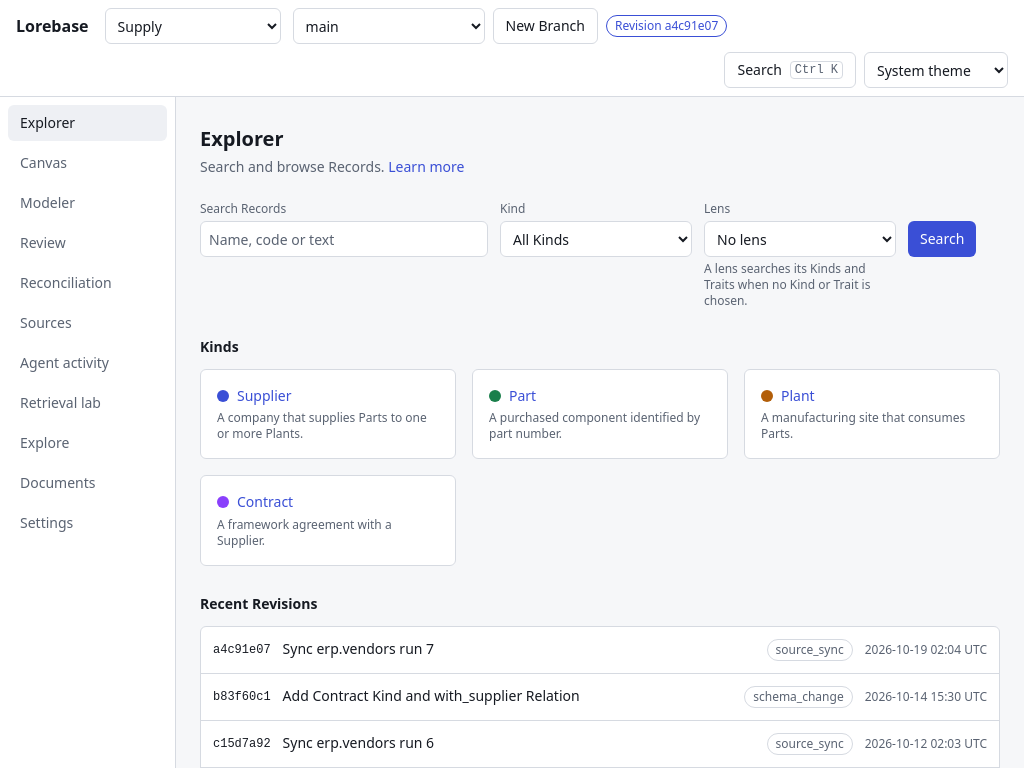
Test: app shell › shows a refused create as a toast and keeps the dialog open
Check: the dropdown named "Branch" in the row of "Revision a4c91e07" is shown, box left=292, top=8, right=484, bottom=44
Click the button "New Branch" at point(545, 26), box left=492, top=8, right=598, bottom=44
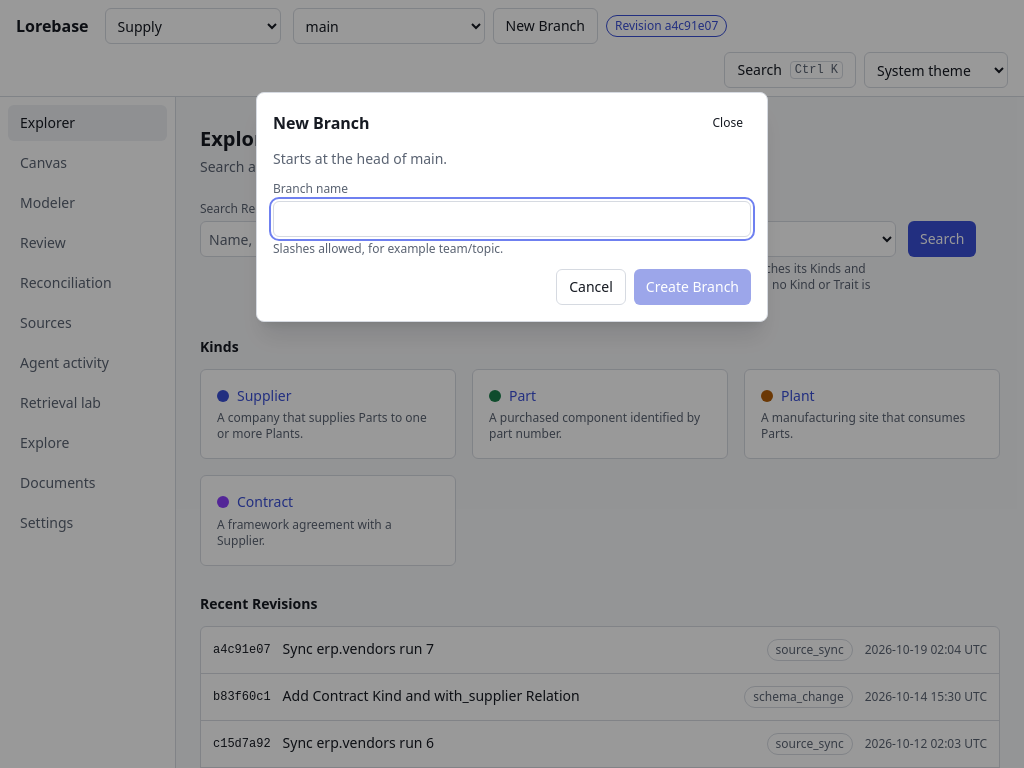
Type "model/risk" into the field labelled "Branch name" at point(512, 219), box left=273, top=201, right=751, bottom=237
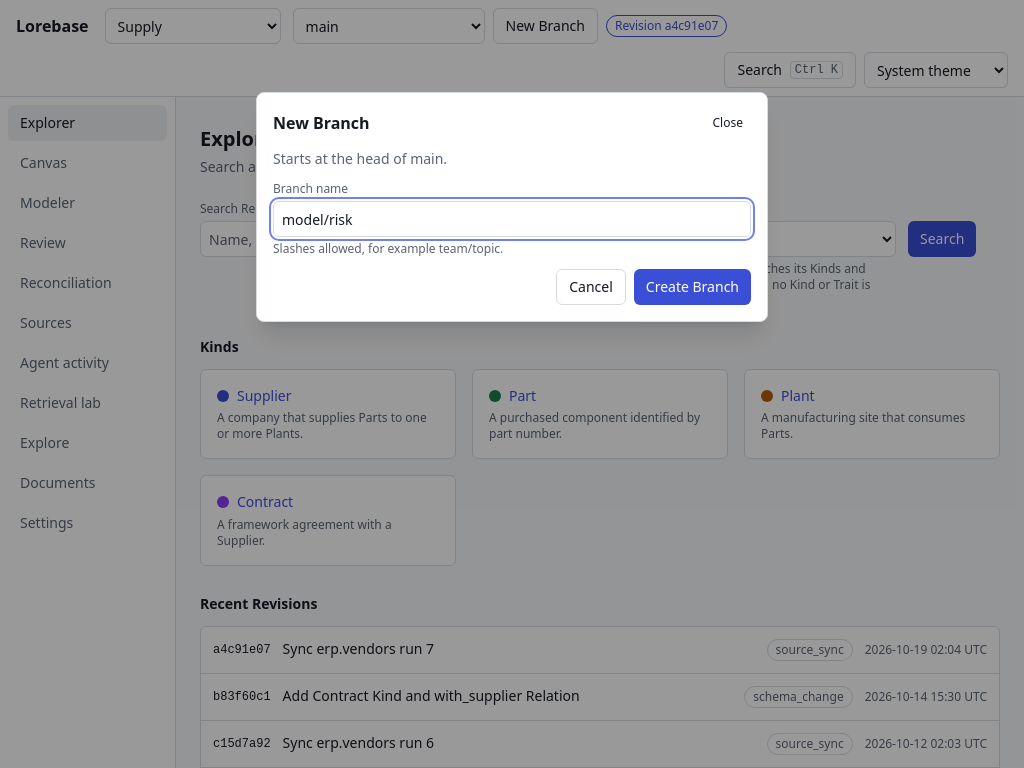
Click the button "Create Branch" at point(692, 287), box left=634, top=269, right=751, bottom=305
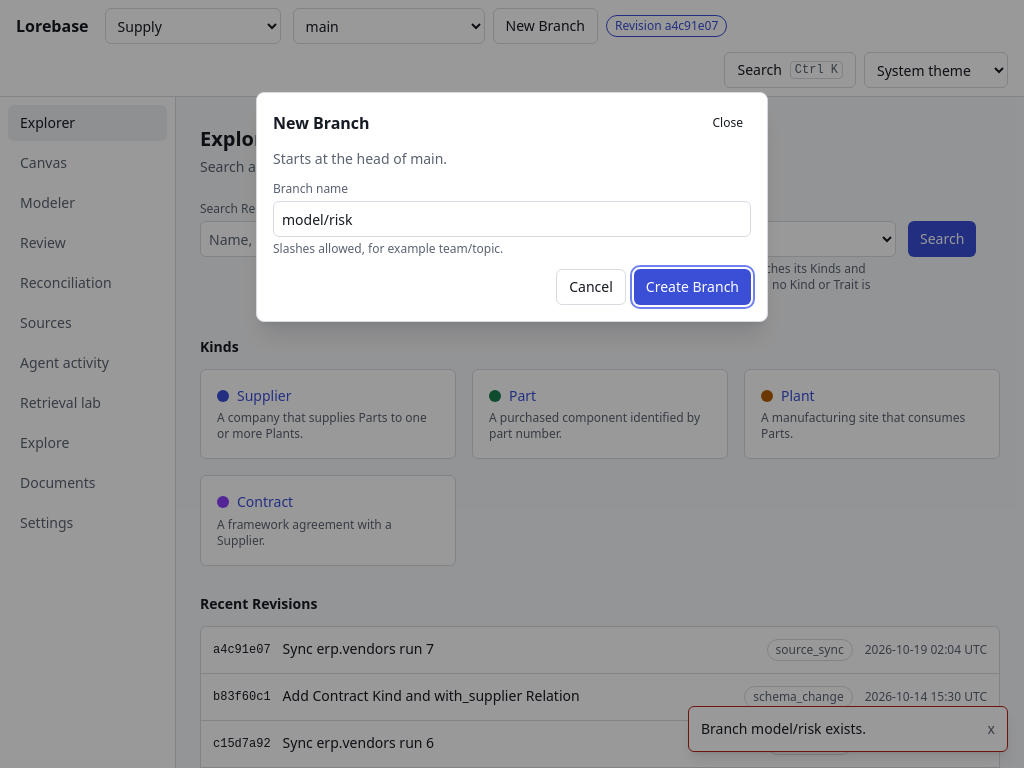
Check: the dialog "New Branch" is shown, box left=256, top=92, right=768, bottom=322
Check: the message shows "Branch model/risk exists.", box left=701, top=719, right=866, bottom=738
